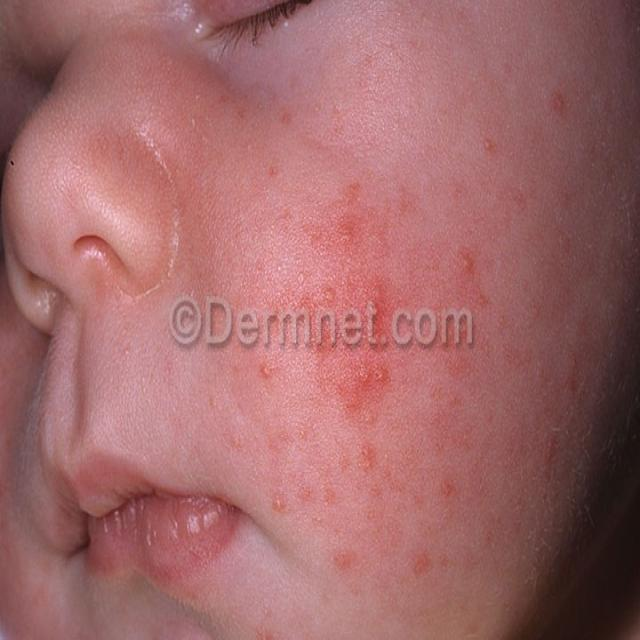Acne: (336, 361, 389, 414), (330, 210, 364, 257), (476, 123, 498, 164), (356, 441, 378, 475), (548, 86, 570, 120), (455, 246, 477, 278), (256, 356, 275, 386), (270, 488, 289, 518), (320, 281, 337, 308)
